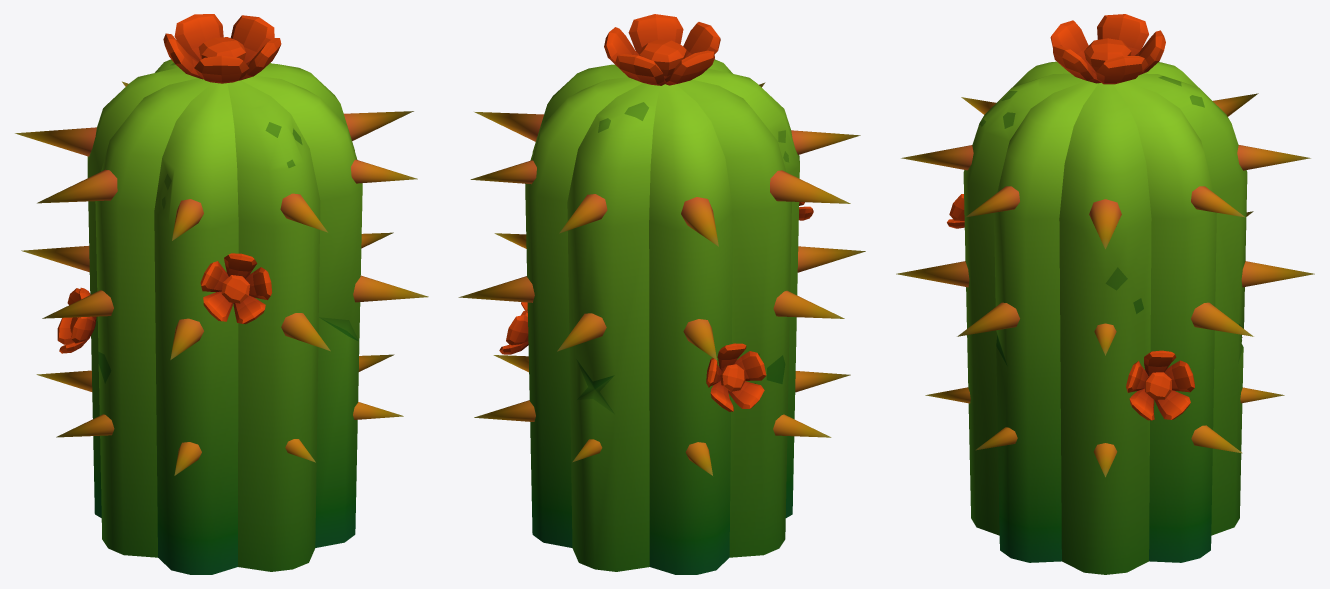
Rendered from cactus2.glb.
3 views of the same model, side by side, from view 1: azimuth 30°, elevation 25°; view 2: azimuth 150°, elevation 25°; view 3: azimuth 270°, elevation 25° (orthographic).
Parts seen in each view (by area): view 1: cactus2; view 2: cactus2; view 3: cactus2.
Boxes of the visible parts, x1,y1,x2,y2 form: cactus2: (15,14,428,574); cactus2: (458,14,865,574); cactus2: (896,14,1314,574).
Size of the model in its own units: 1.92 by 2.35 by 1.86.
1 material, 1 textured.
